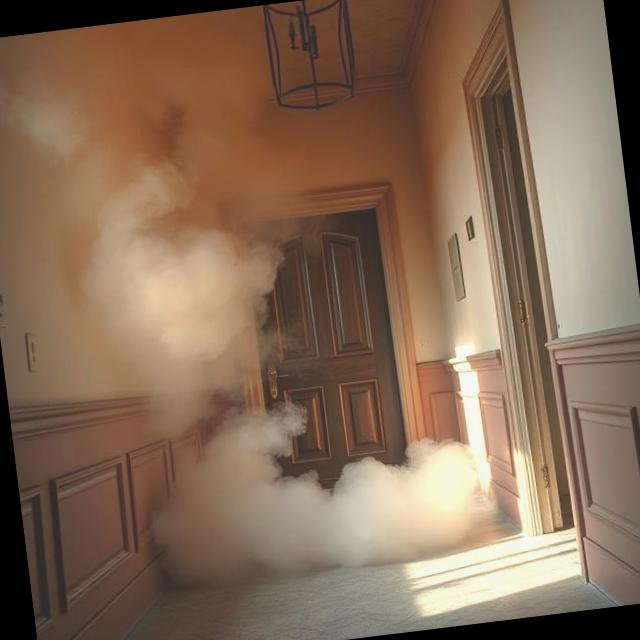smoke: (19, 55, 518, 618)
